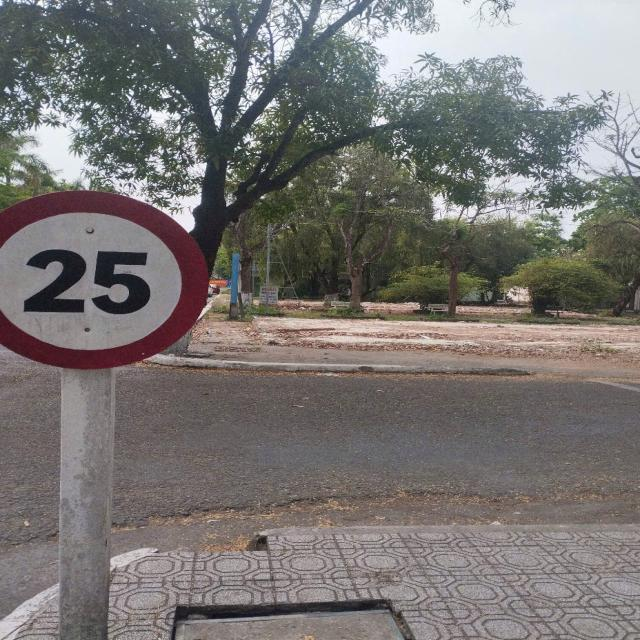Tre_Em: (0, 189, 209, 371)
